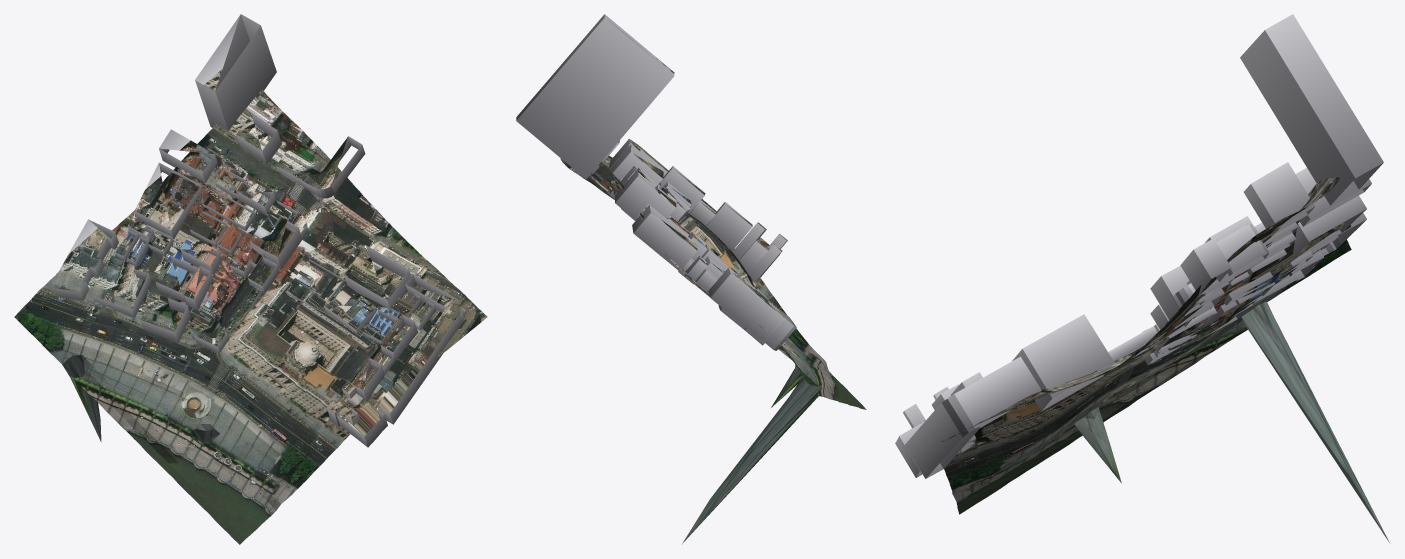
3 renders of one model, left to right at view 1: azimuth 30°, elevation 25°; view 2: azimuth 150°, elevation 25°; view 3: azimuth 270°, elevation 25°, orthographic. The views are drawn at different scales.
Size of the model in its own units: 294 by 366 by 272.
Materials: 1 (1 with a texture image).
